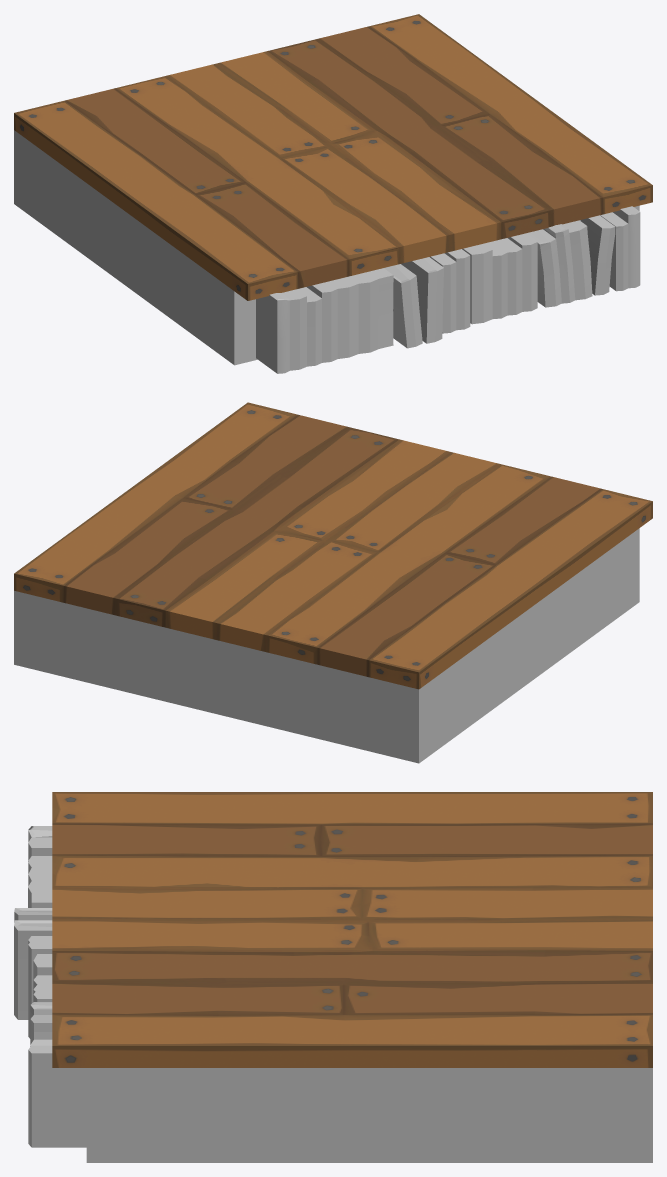
The model's file is SM_Bld_Book_Platform_02.fbx.
3 views of the same model, one above another, from view 1: azimuth 30°, elevation 25°; view 2: azimuth 150°, elevation 25°; view 3: azimuth 270°, elevation 25° (orthographic). The views are drawn at different scales.
Parts seen in each view (by area): view 1: SM_Bld_Book_Platform_02; view 2: SM_Bld_Book_Platform_02; view 3: SM_Bld_Book_Platform_02.
Boxes of the visible parts, left/top/right/bottom form: SM_Bld_Book_Platform_02: left=14, top=14, right=652, bottom=373; SM_Bld_Book_Platform_02: left=14, top=402, right=652, bottom=763; SM_Bld_Book_Platform_02: left=14, top=792, right=652, bottom=1162.
Bounding box in the file's own units: 250 × 53.72 × 266.
